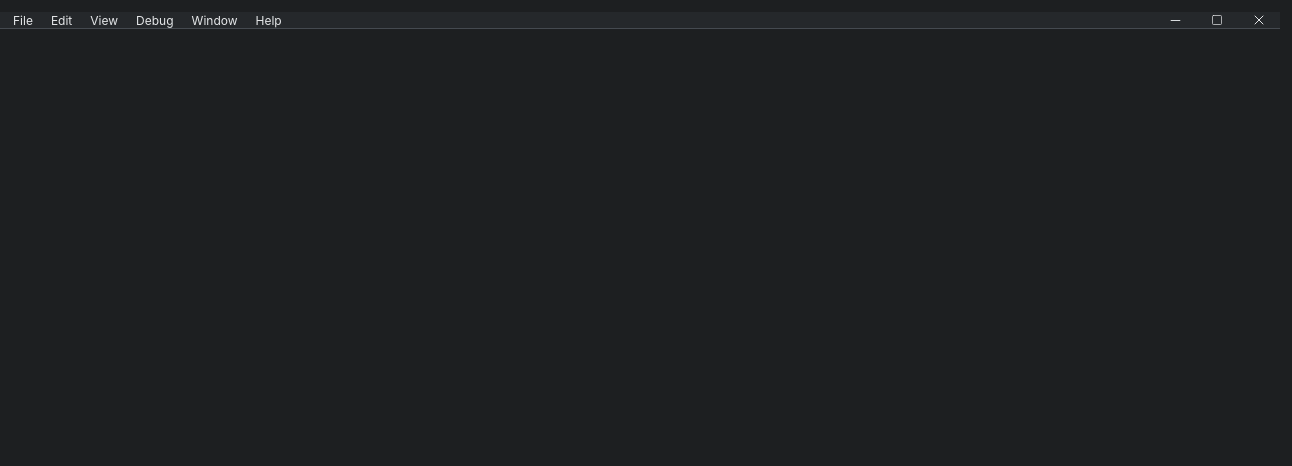
MenuBar › mirrors the upstream File menu layout
This screenshot has width=1292, height=466.
What coordinates should you click on to do the following:
click the menu item "File"
I would click on:
 (23, 20)
Its box is [4,12,42,28].
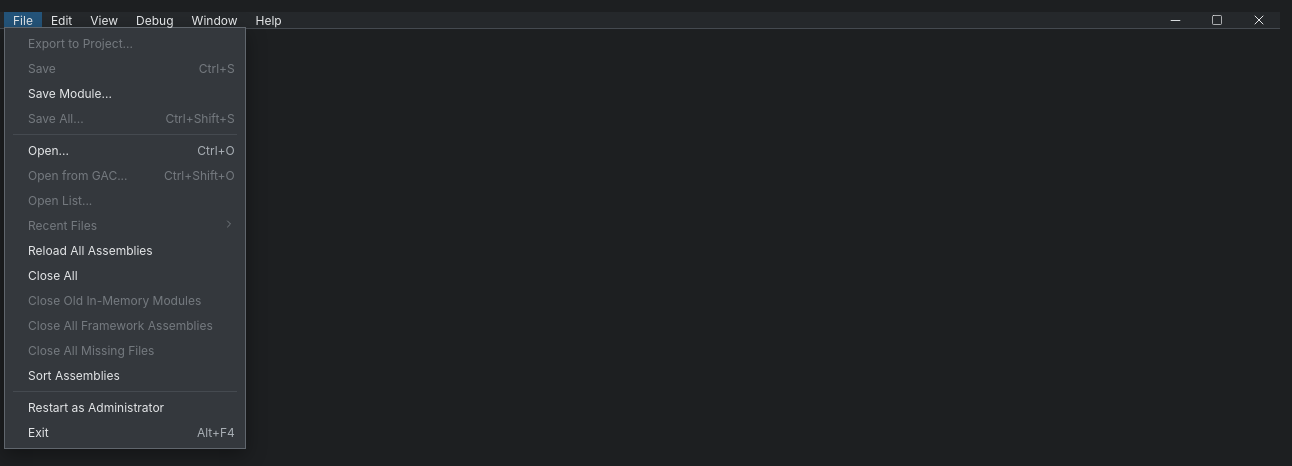
Now the menu item "Export to Project..." is disabled, box [8,31,242,56]
Now the menu item named "SaveCtrl" is disabled, box [8,56,242,81]
Now the menu item "Save All... Ctrl+Shift+S" is disabled, box [8,106,242,131]
